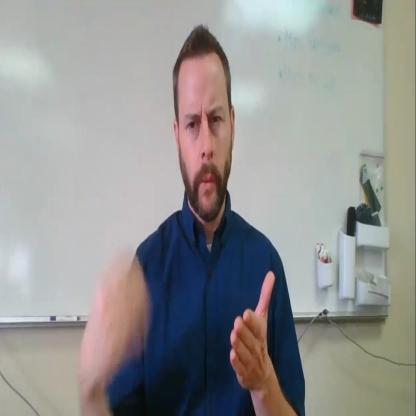Expensive: (83, 215, 290, 415)
